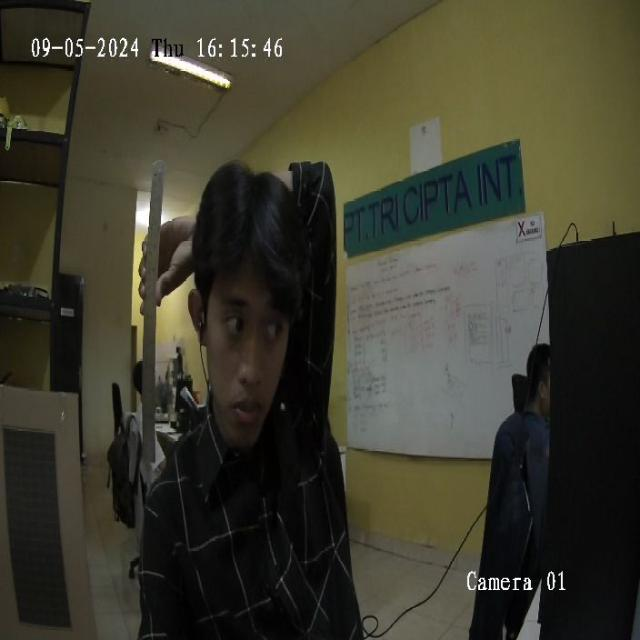Ruler: (140, 161, 162, 479)
